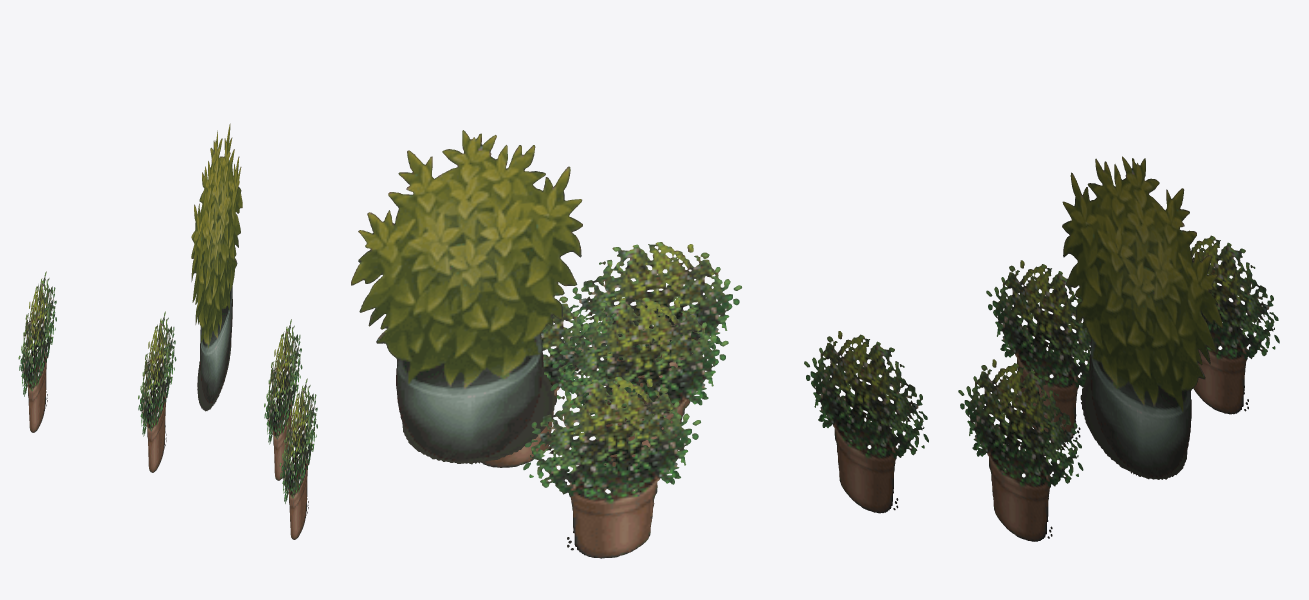
The model's file is K1_oldornament4.FBX.
3 views of the same model, side by side, from view 1: azimuth 30°, elevation 25°; view 2: azimuth 150°, elevation 25°; view 3: azimuth 270°, elevation 25° (orthographic). The views are drawn at different scales.
Visible parts, largest first — view 1: cc_oldornament4_1, cc_oldornament4_2, cc_oldornament4_4, cc_oldornament4_5, cc_oldornament4_3; view 2: cc_oldornament4_1, cc_oldornament4_5, cc_oldornament4_2, cc_oldornament4_4, cc_oldornament4_3; view 3: cc_oldornament4_1, cc_oldornament4_3, cc_oldornament4_4, cc_oldornament4_2, cc_oldornament4_5.
Part boxes in pixels (x1=…): cc_oldornament4_1: x1=191, y1=123, x2=242, y2=411; cc_oldornament4_2: x1=138, y1=311, x2=176, y2=472; cc_oldornament4_4: x1=279, y1=378, x2=317, y2=539; cc_oldornament4_5: x1=18, y1=271, x2=56, y2=432; cc_oldornament4_3: x1=264, y1=319, x2=302, y2=480; cc_oldornament4_1: x1=351, y1=130, x2=582, y2=464; cc_oldornament4_5: x1=523, y1=376, x2=700, y2=558; cc_oldornament4_2: x1=550, y1=297, x2=728, y2=466; cc_oldornament4_4: x1=568, y1=242, x2=741, y2=408; cc_oldornament4_3: x1=481, y1=296, x2=600, y2=467; cc_oldornament4_1: x1=1062, y1=156, x2=1222, y2=479; cc_oldornament4_3: x1=958, y1=359, x2=1083, y2=541; cc_oldornament4_4: x1=804, y1=331, x2=928, y2=513; cc_oldornament4_2: x1=986, y1=260, x2=1091, y2=442; cc_oldornament4_5: x1=1191, y1=235, x2=1279, y2=414.
Size of the model in its own units: 47.32 by 66.43 by 63.12.
